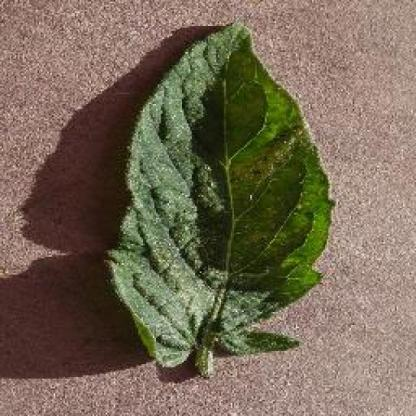Tomato_Spider_Mites: (107, 25, 332, 367)
